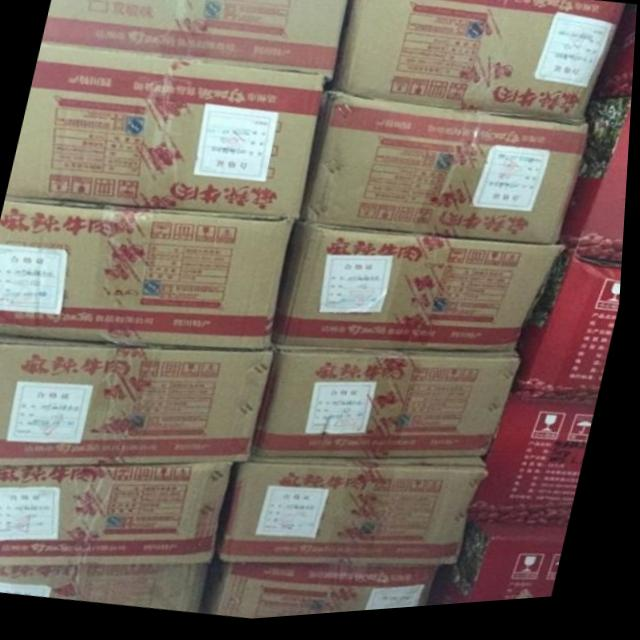box: (7, 46, 326, 222), (0, 196, 298, 353), (304, 95, 588, 252), (324, 0, 627, 134), (276, 222, 571, 359), (0, 332, 277, 466), (258, 345, 524, 465), (224, 457, 492, 573), (41, 0, 348, 84), (0, 465, 239, 566), (471, 397, 601, 535), (515, 251, 625, 414), (208, 562, 445, 622), (560, 106, 633, 273), (438, 530, 573, 613), (0, 567, 217, 614), (589, 13, 638, 112)
